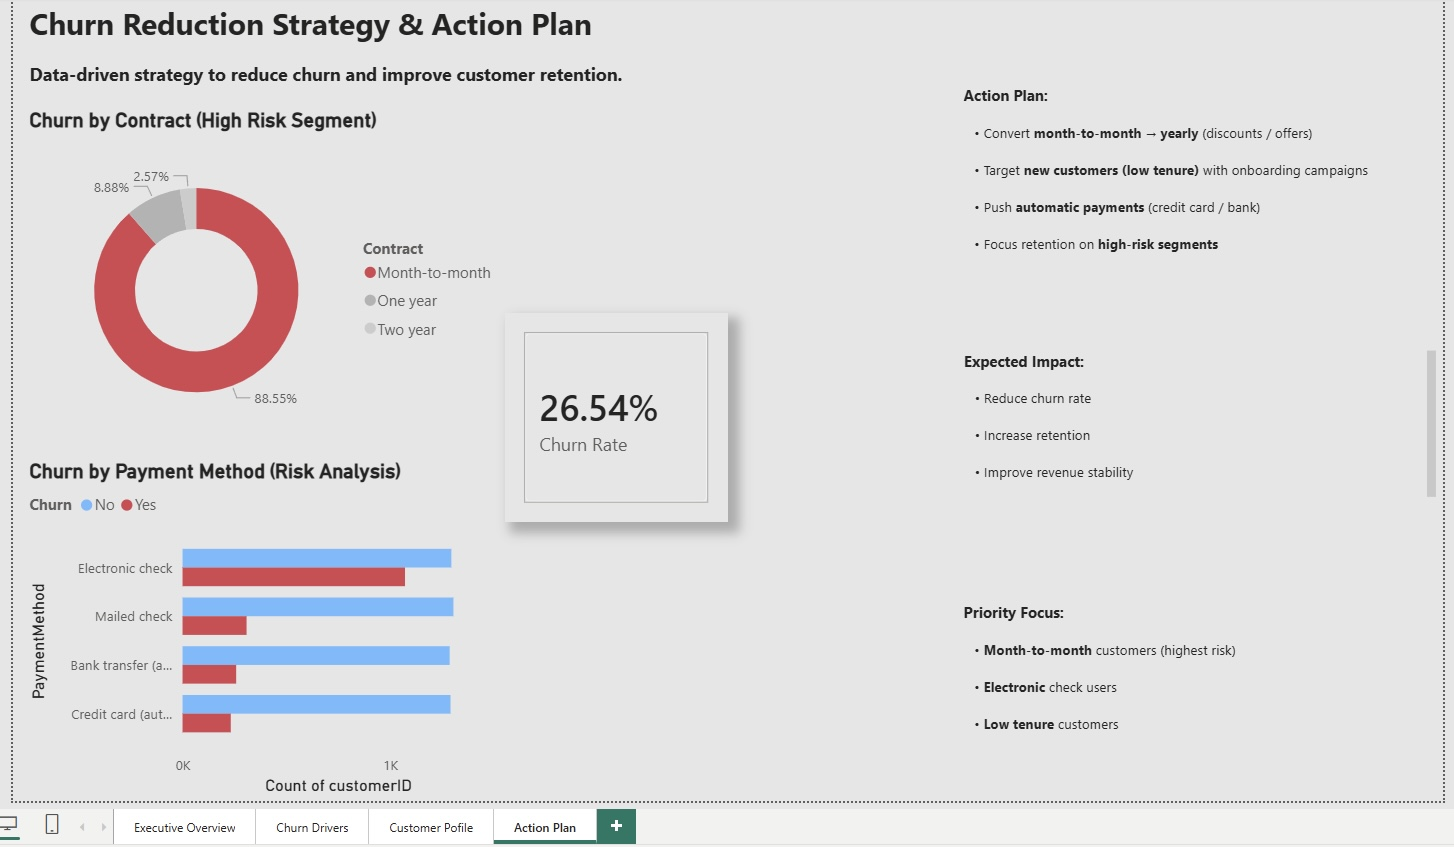

The dashboard page shown, as its layout file describes it:
{"tool":"powerbi","page":{"name":"Action Plan","canvas":[1280,720],"ordinal":3},"visuals":[{"type":"textbox","box":[9.9,0,562.4,86.9],"z":0},{"type":"donutChart","title":"Churn by Contract (High Risk Segment)","fields":{"Y":["WA_Fn-UseC_-Telco-Customer-Churn.Churn Customers"],"Category":["WA_Fn-UseC_-Telco-Customer-Churn.Contract"]},"box":[9.9,99.4,432.5,305.4],"z":1},{"type":"textbox","box":[846.3,74.3,433.4,180.9],"z":2},{"type":"textbox","box":[846.3,311.6,433.4,150.4],"z":3},{"type":"clusteredBarChart","title":"Churn by Payment Method (Risk Analysis)","fields":{"Series":["WA_Fn-UseC_-Telco-Customer-Churn.Churn"],"Y":["CountNonNull(WA_Fn-UseC_-Telco-Customer-Churn.customerID)"],"Category":["WA_Fn-UseC_-Telco-Customer-Churn.PaymentMethod"]},"box":[10,414,433,306],"z":4},{"type":"cardVisual","fields":{"Data":["WA_Fn-UseC_-Telco-Customer-Churn.Churn Rate"]},"box":[440.6,283,199.7,187.2],"z":5},{"type":"textbox","box":[846.3,537.3,334,146.9],"z":6}]}

Visuals, with their boxes on the page's 1280x720 design canvas (x1, y1, x2, y2). These are canvas units, not pixel positions in the 1454x847 screenshot, which may show the page scaled, cropped or inside an application window:
textbox: box(10, 0, 572, 87)
"Churn by Contract (High Risk Segment)" donutChart: box(10, 99, 442, 405)
textbox: box(846, 74, 1280, 255)
textbox: box(846, 312, 1280, 462)
"Churn by Payment Method (Risk Analysis)" clusteredBarChart: box(10, 414, 443, 720)
cardVisual - WA_Fn-UseC_-Telco-Customer-Churn.Churn Rate: box(441, 283, 640, 470)
textbox: box(846, 537, 1180, 684)
